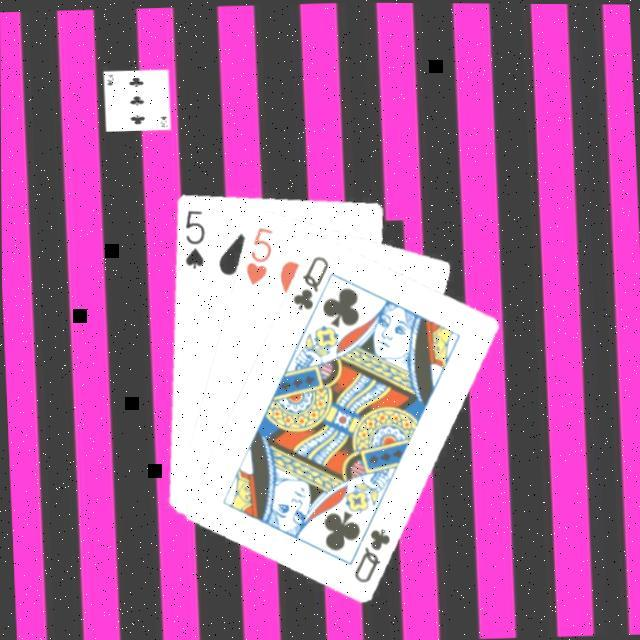5H: (238, 220, 276, 284)
5S: (176, 202, 206, 269)
QC: (344, 520, 392, 584), (284, 249, 330, 311)
